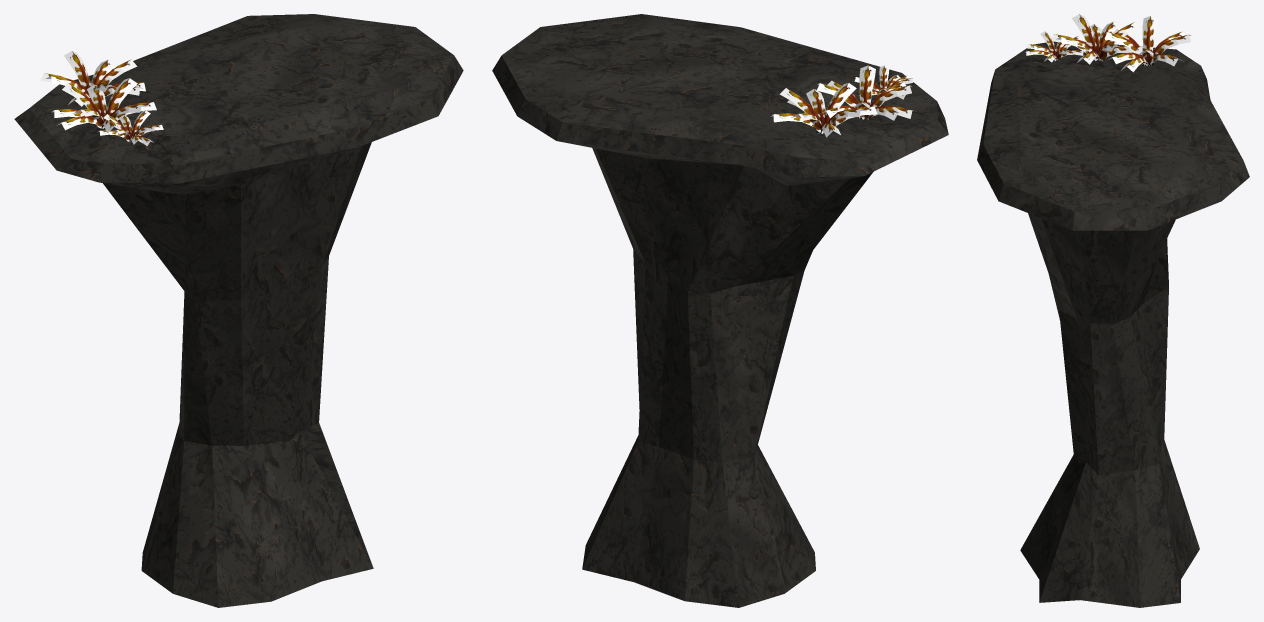
File: platform_2_tex_0002.fbx
The picture shows the model from 3 angles, left to right: view 1: azimuth 30°, elevation 25°; view 2: azimuth 150°, elevation 25°; view 3: azimuth 270°, elevation 25°; orthographic projection. The views are drawn at different scales.
Parts seen in each view (by area): view 1: Box001; view 2: Box001; view 3: Box001, Plane001_6_2, Plane001_7.
Boxes of the visible parts, x1=… form: Box001: x1=14, y1=14, x2=463, y2=607; Box001: x1=492, y1=14, x2=948, y2=607; Box001: x1=977, y1=41, x2=1249, y2=607; Plane001_6_2: x1=1142, y1=16, x2=1157, y2=51; Plane001_7: x1=1072, y1=14, x2=1096, y2=52.
Size of the model in its own units: 68.98 by 82.29 by 43.21.
28 materials, 28 textured.
